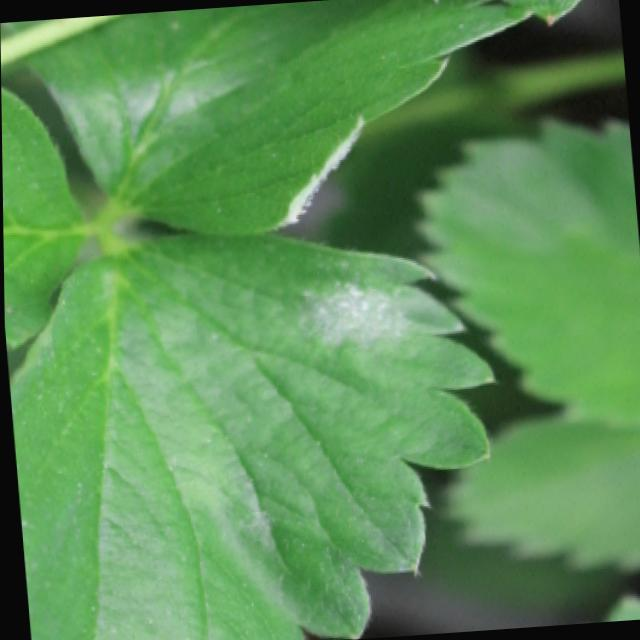Powdery Mildew Leaf: (8, 230, 495, 640), (6, 0, 539, 238)
